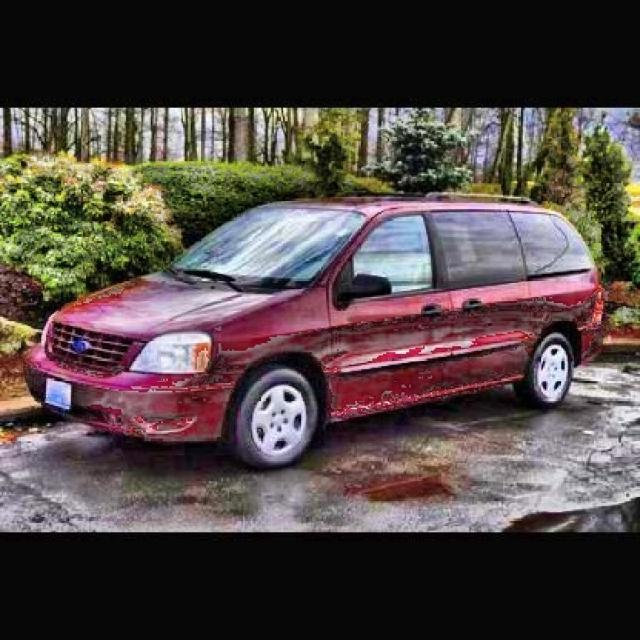maroon: (48, 194, 600, 455)
